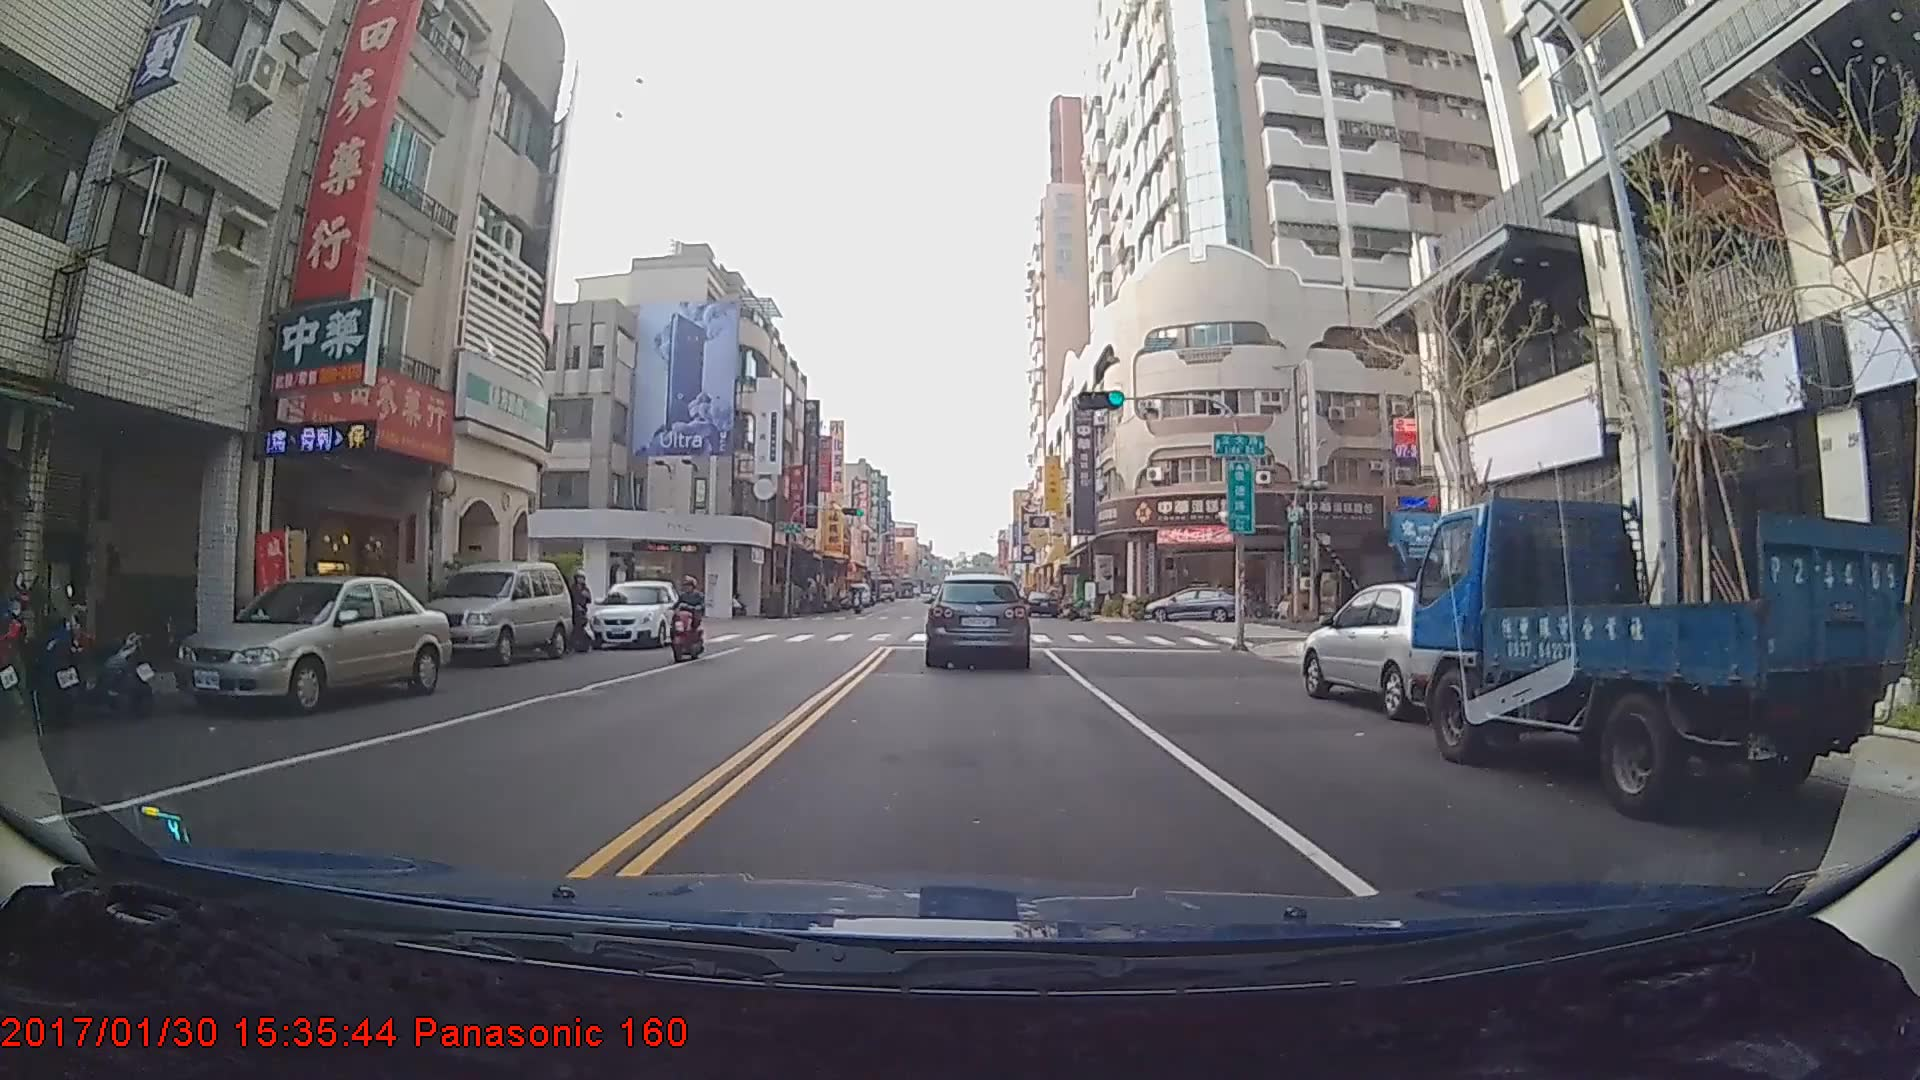rider: (663, 578, 706, 668)
vehicle: (1408, 493, 1909, 820), (171, 574, 443, 719), (1297, 580, 1505, 720), (415, 558, 573, 666), (925, 575, 1029, 667), (588, 578, 682, 650), (1141, 584, 1241, 621), (1022, 588, 1059, 617), (845, 580, 869, 608)
